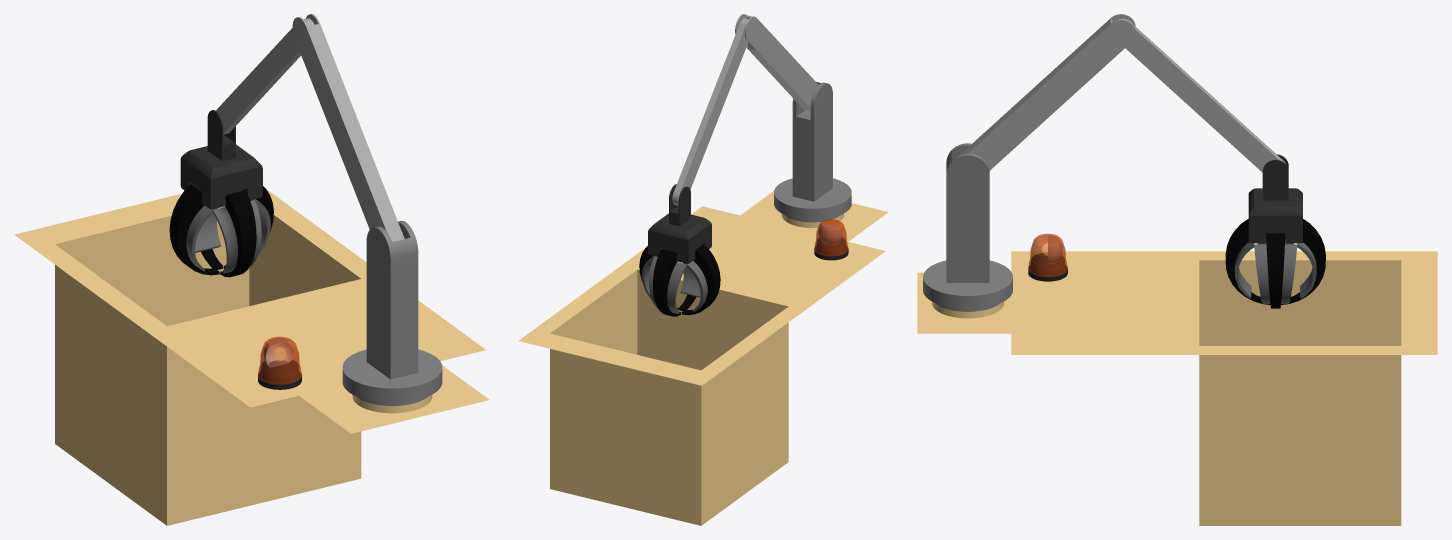
File: excavator.glb
3 views of the same model, side by side, from view 1: azimuth 30°, elevation 25°; view 2: azimuth 150°, elevation 25°; view 3: azimuth 270°, elevation 25° (orthographic). The views are drawn at different scales.
Visible parts, largest first — view 1: base, rotating-platform, arm-rotating-platform, jaws, jaw-3, arm-jaws, jaw-1, beacon-light-base, jaw-2, beacon-light-mirror, jaw-4, rotating-platform-base; view 2: base, rotating-platform, jaws, arm-rotating-platform, arm-jaws, jaw-2, jaw-1, beacon-light-base, jaw-3, beacon-light-mirror, jaw-4; view 3: base, rotating-platform, arm-rotating-platform, arm-jaws, jaws, jaw-4, beacon-light-base, jaw-3, jaw-2.
Part boxes in pixels (bbox=[...]): base: bbox=[14, 189, 489, 525]; rotating-platform: bbox=[342, 220, 442, 405]; arm-rotating-platform: bbox=[292, 14, 404, 241]; jaws: bbox=[180, 110, 262, 209]; jaw-3: bbox=[213, 190, 261, 277]; arm-jaws: bbox=[216, 18, 314, 134]; jaw-1: bbox=[169, 184, 219, 275]; beacon-light-base: bbox=[258, 336, 301, 389]; jaw-2: bbox=[195, 208, 223, 269]; beacon-light-mirror: bbox=[263, 338, 293, 367]; jaw-4: bbox=[224, 186, 273, 268]; rotating-platform-base: bbox=[352, 394, 432, 413]; base: bbox=[518, 191, 888, 525]; rotating-platform: bbox=[774, 82, 851, 222]; jaws: bbox=[648, 184, 711, 263]; arm-rotating-platform: bbox=[735, 14, 818, 110]; arm-jaws: bbox=[672, 18, 748, 205]; jaw-2: bbox=[649, 249, 686, 316]; jaw-1: bbox=[681, 244, 720, 315]; beacon-light-base: bbox=[814, 219, 848, 260]; jaw-3: bbox=[678, 263, 700, 310]; beacon-light-mirror: bbox=[818, 222, 842, 245]; jaw-4: bbox=[639, 246, 678, 309]; base: bbox=[917, 251, 1437, 525]; rotating-platform: bbox=[923, 143, 1012, 311]; arm-rotating-platform: bbox=[960, 14, 1135, 170]; arm-jaws: bbox=[1118, 18, 1285, 172]; jaws: bbox=[1248, 154, 1302, 243]; jaw-4: bbox=[1254, 233, 1297, 308]; beacon-light-base: bbox=[1028, 233, 1067, 281]; jaw-3: bbox=[1225, 219, 1270, 304]; jaw-2: bbox=[1281, 219, 1325, 304].
Bounding box in the file's own units: 0.34 × 0.7121 × 0.72.
